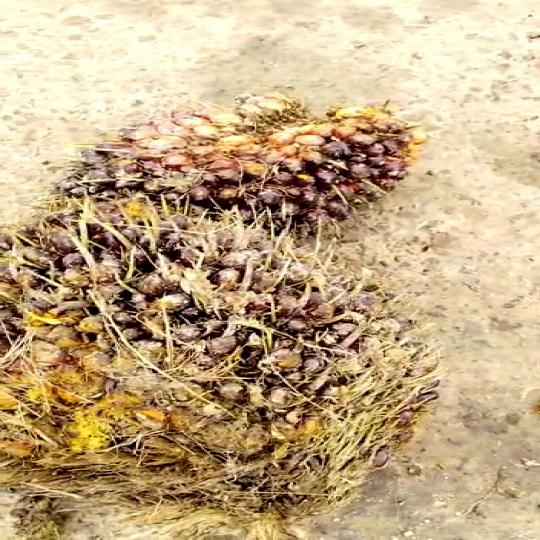kurang masak: (0, 202, 442, 534), (93, 92, 434, 235)
